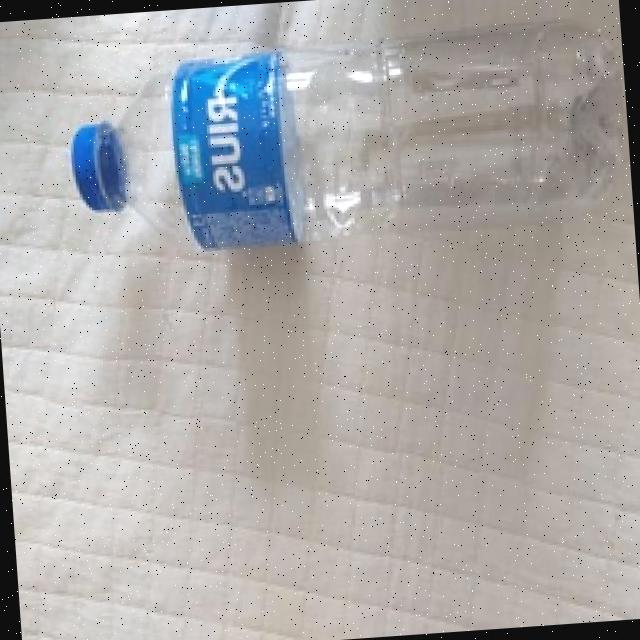bottle: (51, 15, 634, 269)
cap: (72, 118, 129, 216)
label: (162, 44, 296, 260)
